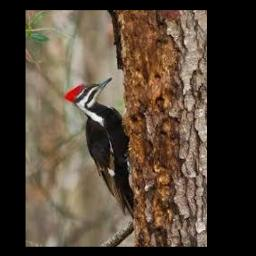Woodpecker: (65, 78, 135, 218)
